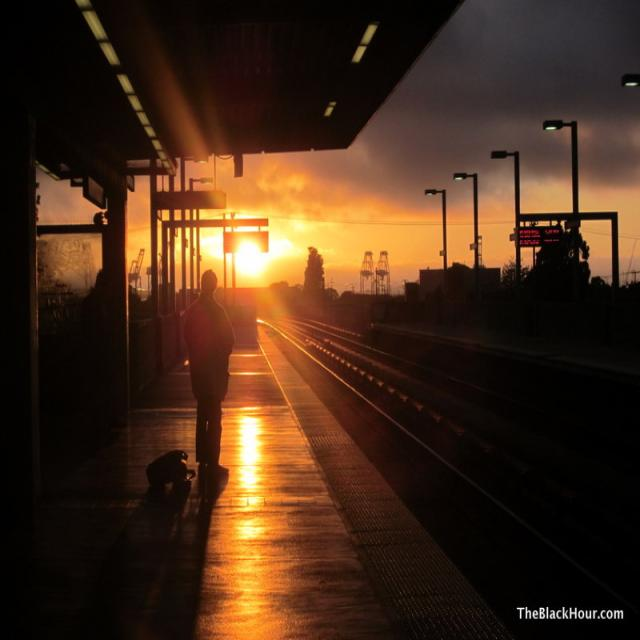no_fire: (158, 136, 402, 300), (181, 354, 352, 550)
